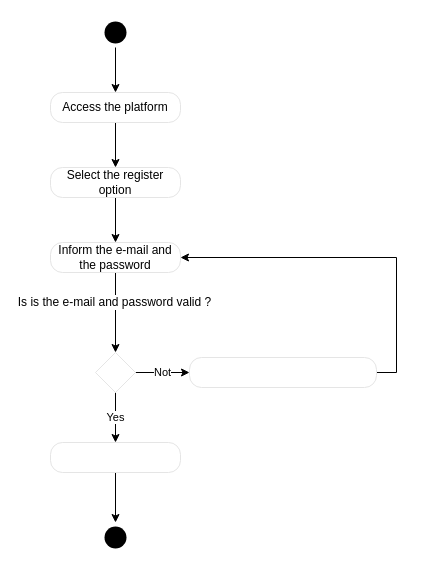
The diagram is 422 pixels wide and 569 high, and some of its shapes have lost their labels. The shapes that lost their labels are listed below. From the top down, each one's box as (x1, y1, x2, y2) in pixels, then its label:
(188, 356, 376, 388): Change the e-mail or password field color and inform a message
(50, 442, 180, 472): Grant access and redirect
